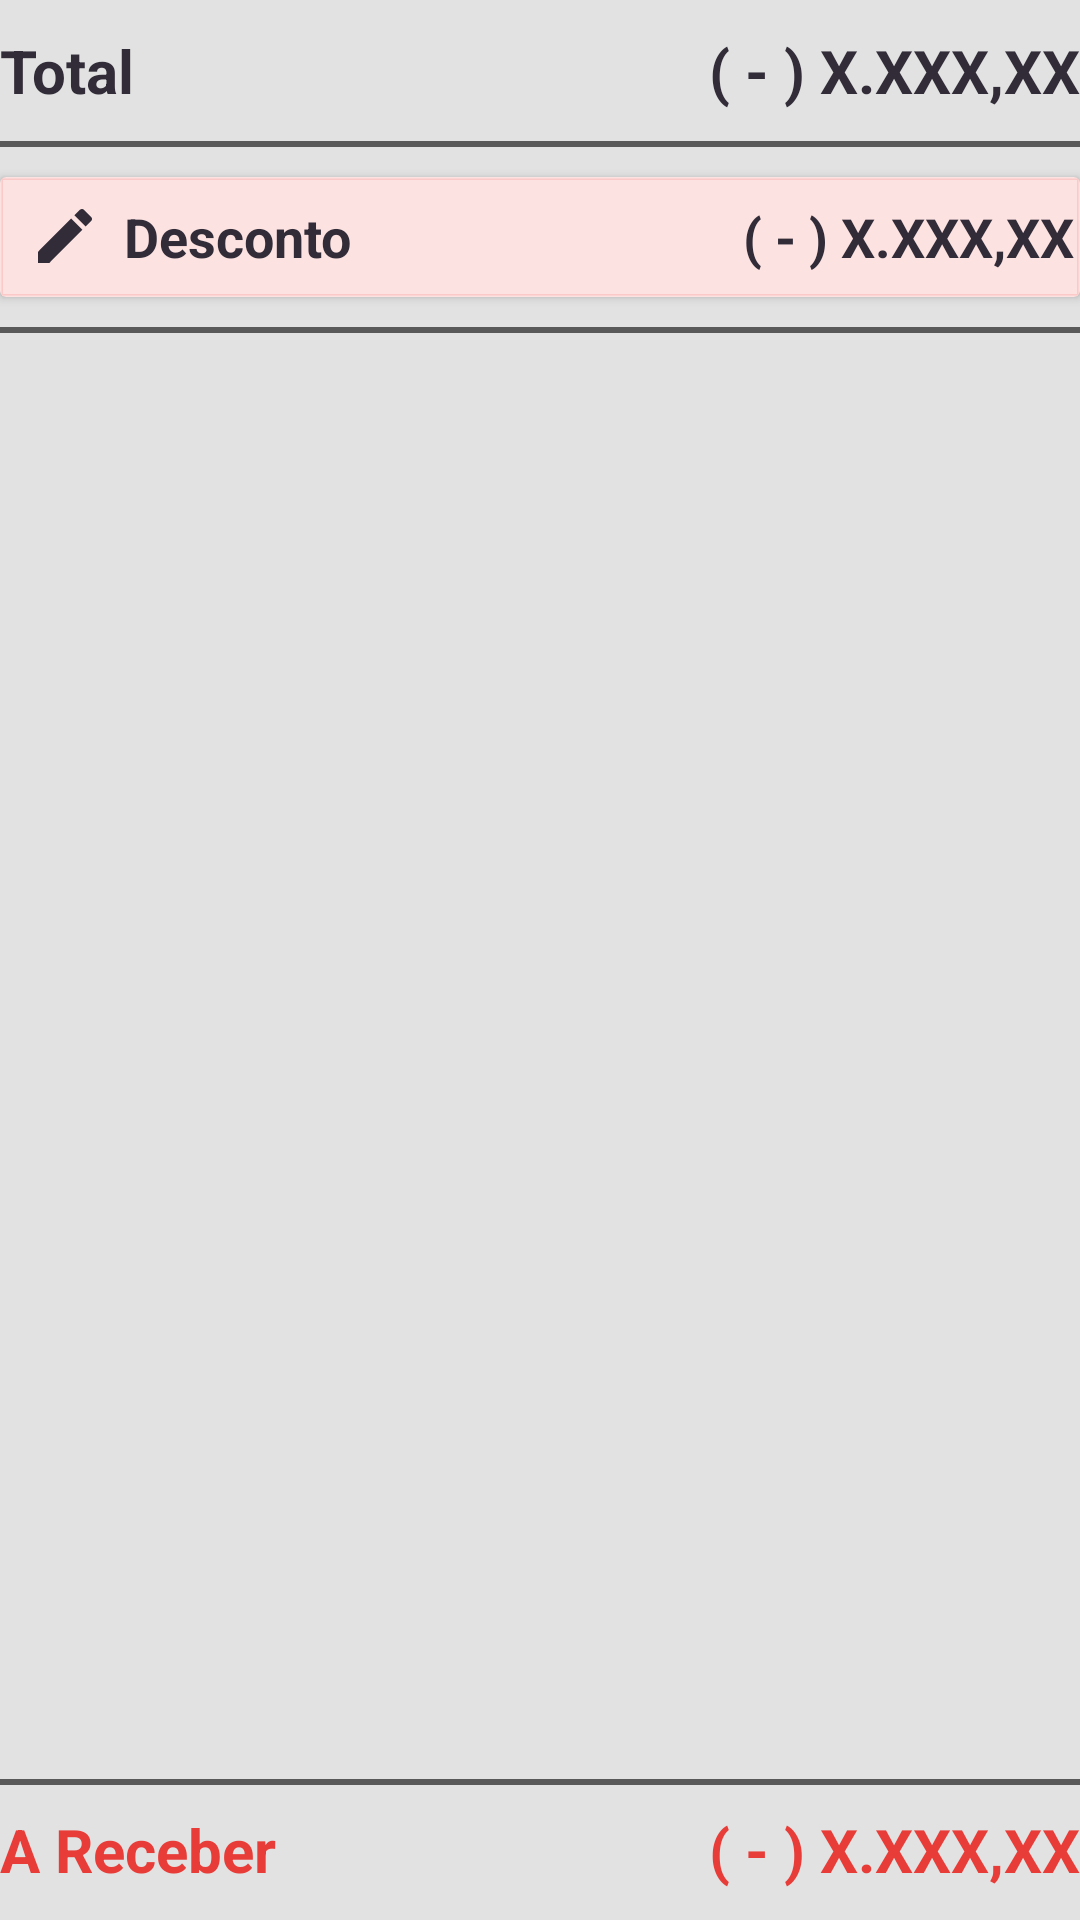

Point at icon controls on the screen. Image size 1080px×1920px, points as (x,y).
edit: (65,236)
